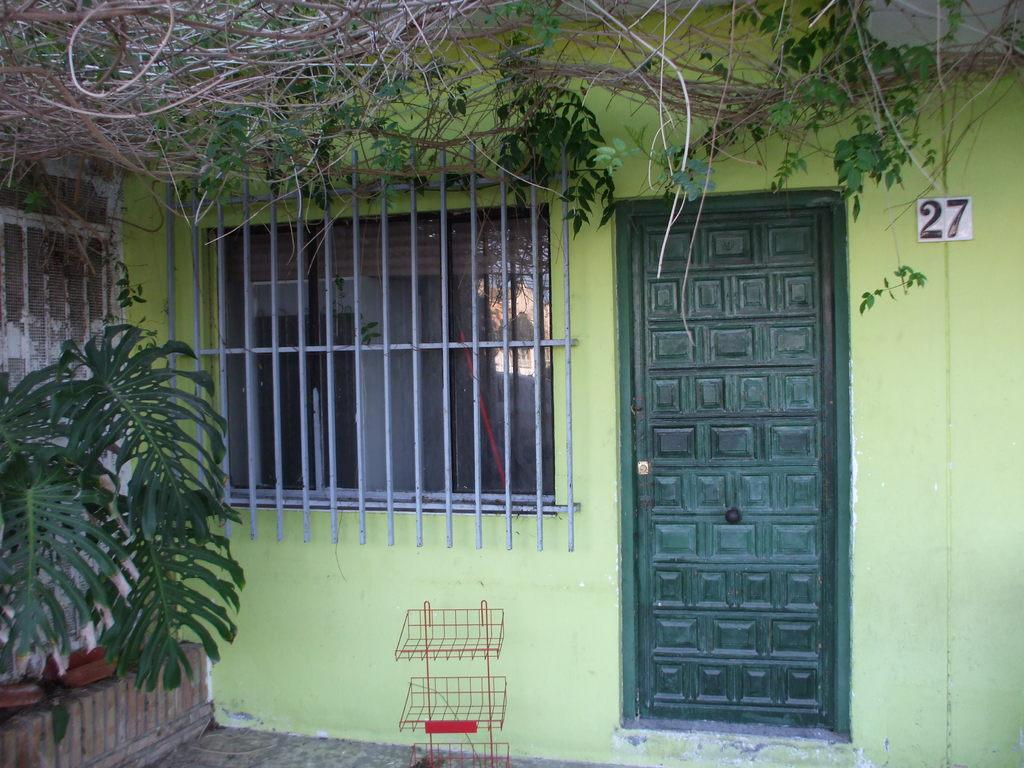handle: (720, 496, 746, 528)
